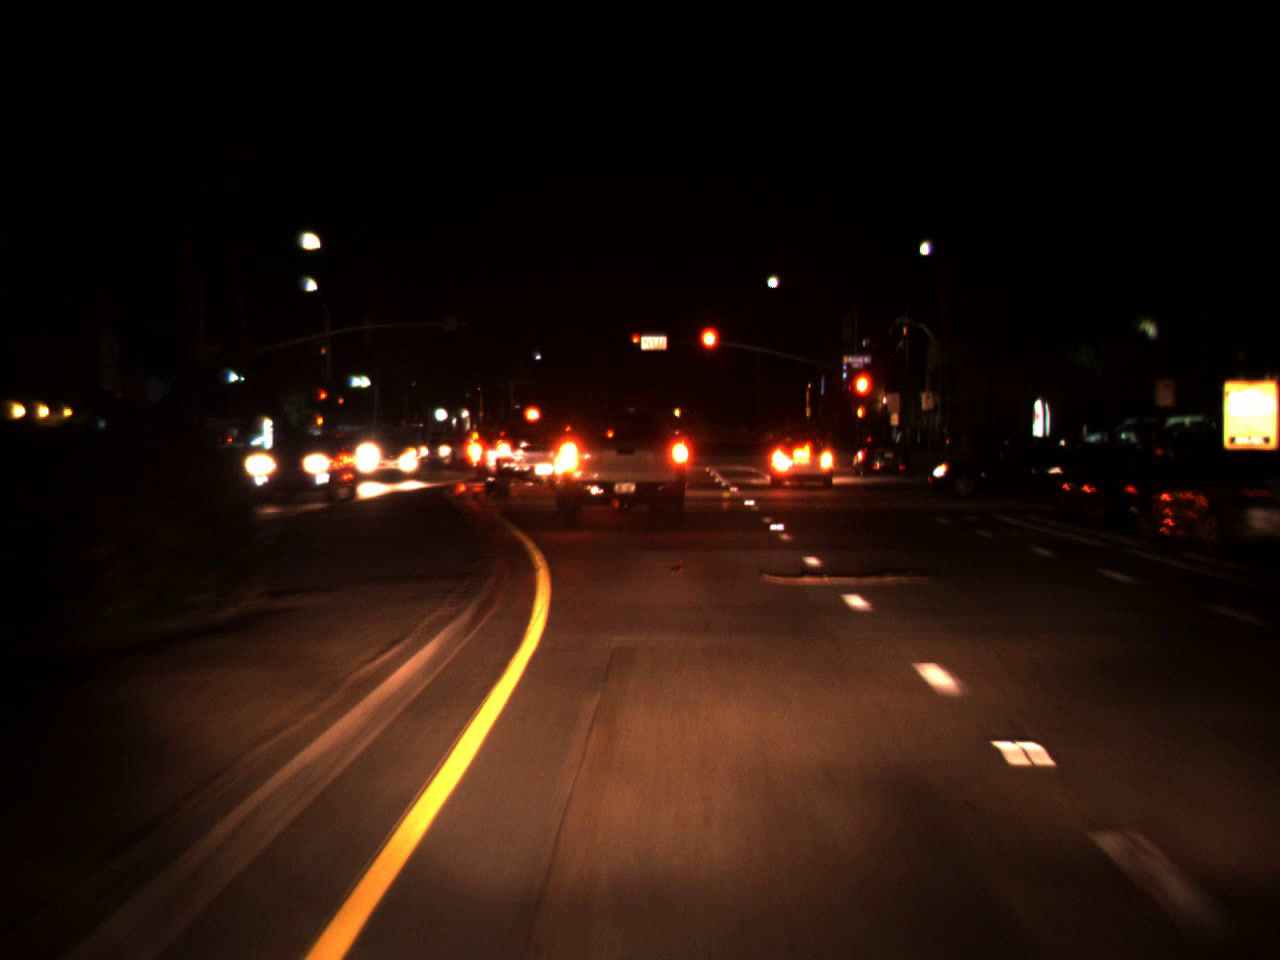stop: (849, 368, 874, 427), (696, 323, 721, 377), (318, 389, 327, 410), (631, 334, 641, 350)
